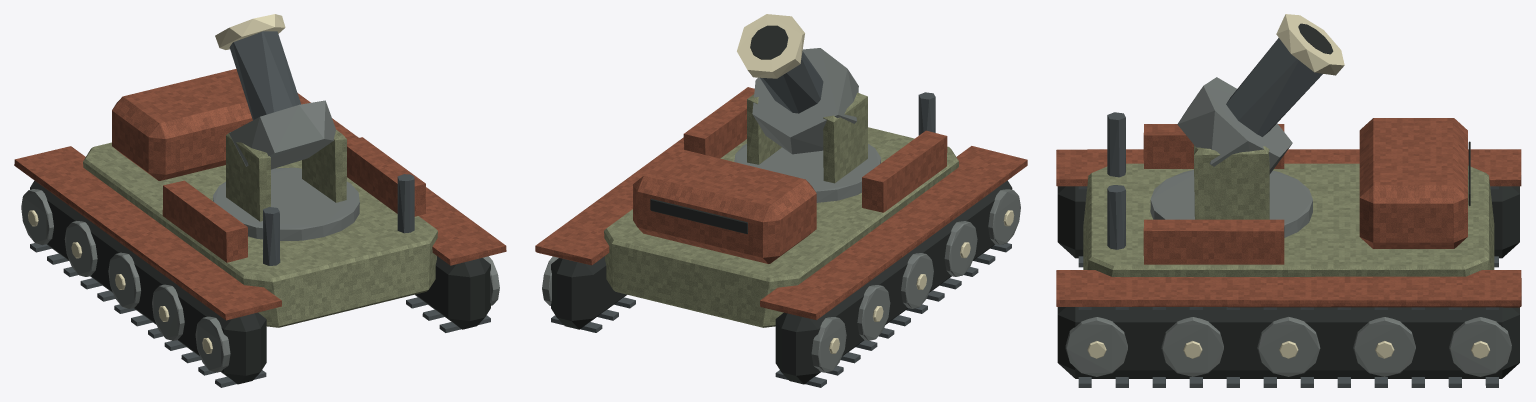
3 views of the same model, side by side, from view 1: azimuth 30°, elevation 25°; view 2: azimuth 150°, elevation 25°; view 3: azimuth 270°, elevation 25° (orthographic). The views are drawn at different scales.
Parts seen in each view (by area): view 1: ST2-E03_Mesh, Track_L_Mesh, TurretYaw_Mesh, BarrelRecoil_Mesh, Track_R_Mesh; view 2: ST2-E03_Mesh, Track_L_Mesh, BarrelRecoil_Mesh, TurretYaw_Mesh, Track_R_Mesh; view 3: ST2-E03_Mesh, Track_R_Mesh, BarrelRecoil_Mesh, TurretYaw_Mesh, Track_L_Mesh.
Part boxes in pixels (x1=…): ST2-E03_Mesh: x1=14, y1=69, x2=506, y2=327; Track_L_Mesh: x1=21, y1=180, x2=266, y2=387; TurretYaw_Mesh: x1=213, y1=130, x2=359, y2=240; BarrelRecoil_Mesh: x1=215, y1=14, x2=335, y2=169; Track_R_Mesh: x1=406, y1=256, x2=499, y2=332; ST2-E03_Mesh: x1=535, y1=87, x2=1027, y2=327; Track_L_Mesh: x1=775, y1=180, x2=1020, y2=387; BarrelRecoil_Mesh: x1=737, y1=14, x2=858, y2=154; TurretYaw_Mesh: x1=734, y1=92, x2=880, y2=202; Track_R_Mesh: x1=542, y1=256, x2=635, y2=332; ST2-E03_Mesh: x1=1056, y1=112, x2=1521, y2=307; Track_R_Mesh: x1=1057, y1=307, x2=1519, y2=387; BarrelRecoil_Mesh: x1=1177, y1=14, x2=1344, y2=174; TurretYaw_Mesh: x1=1150, y1=145, x2=1312, y2=237; Track_L_Mesh: x1=1057, y1=186, x2=1519, y2=267.
Size of the model in its own units: 3.66 by 3.33 by 4.73.
